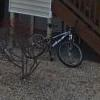Bicycle: (23, 23, 89, 73)
